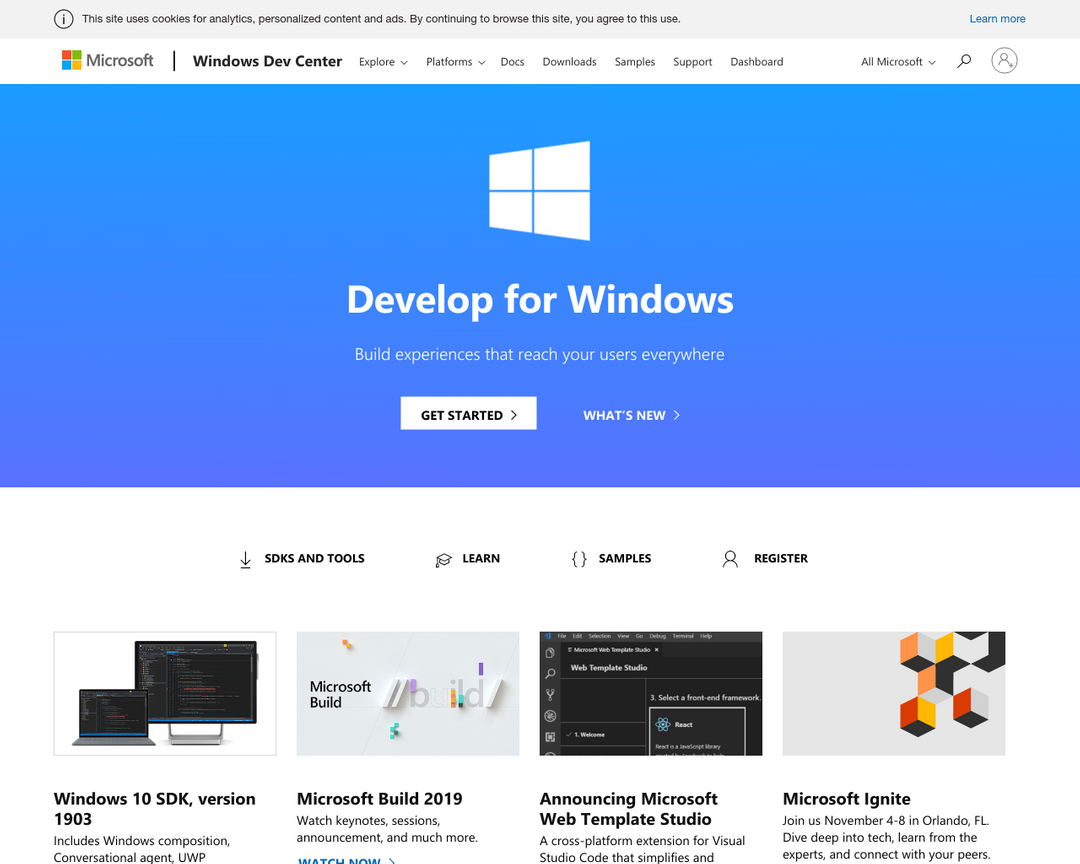Microsoft: (59, 46, 157, 76)
